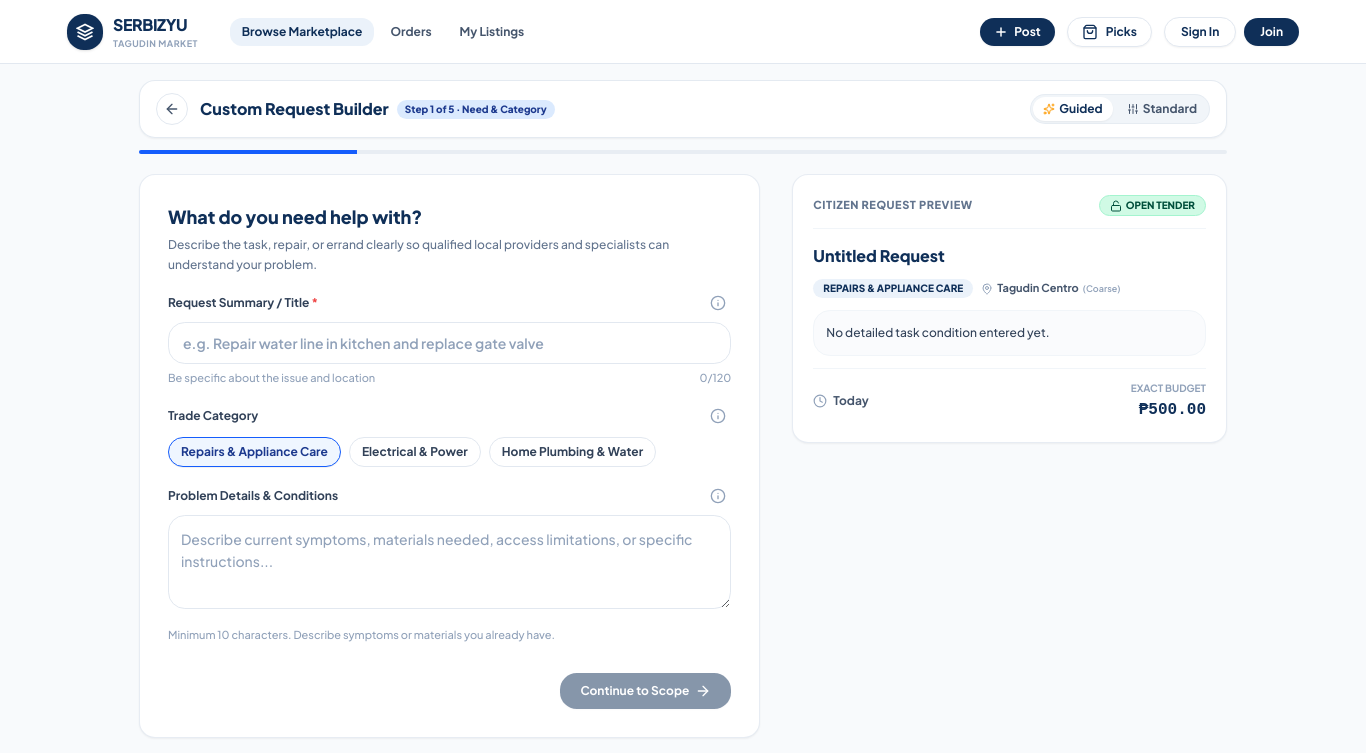
Test: CreateRequest Page › toggles to Standard mode and back to Guided mode cleanly
The width and height of the screenshot is (1366, 753).
Click the button "Standard" at coordinates (1162, 109), box [1117, 97, 1207, 121]
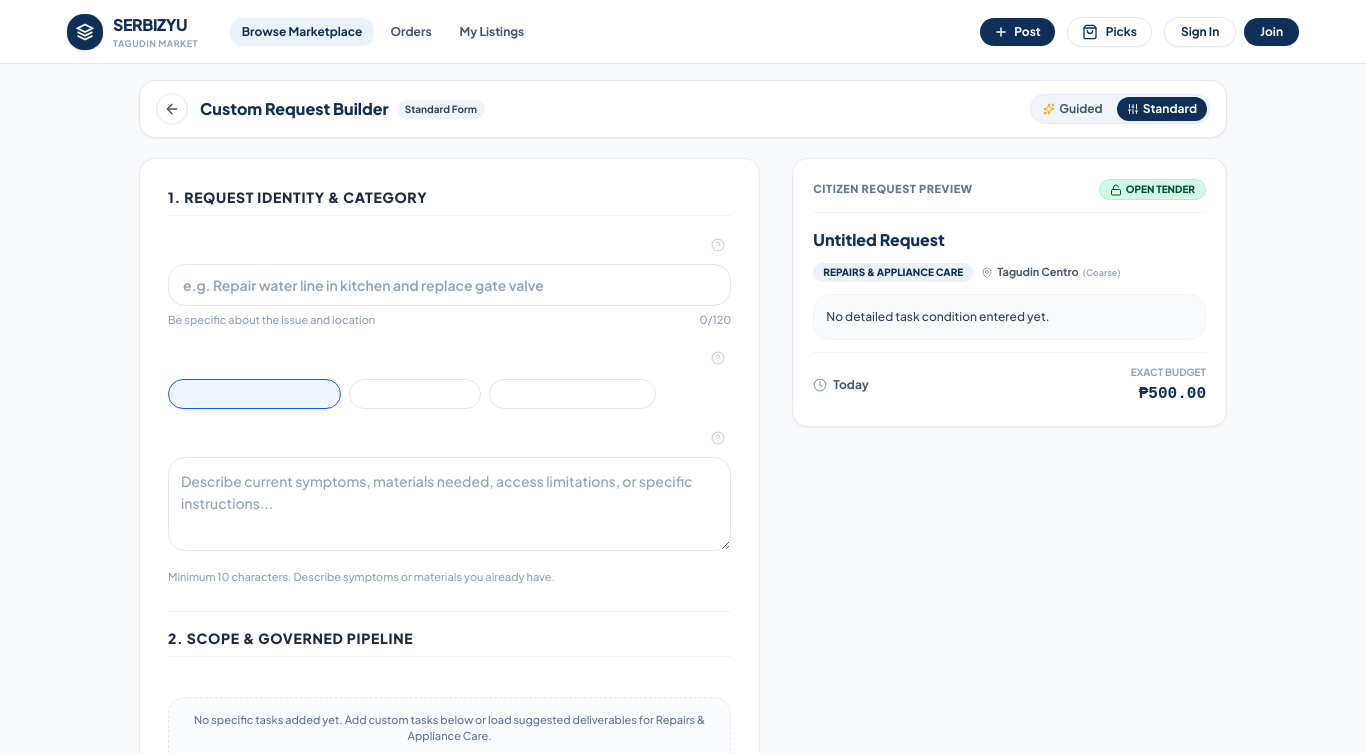
Check: the text "Standard Form" is shown, box [397, 100, 485, 118]
Check: the heading "1. Request Identity & Category" is shown, box [168, 187, 427, 207]
Check: the heading "2. Scope & Governed Pipeline" is shown, box [168, 628, 413, 648]
Click the button "Guided" at coordinates (1073, 109), box [1033, 97, 1113, 121]
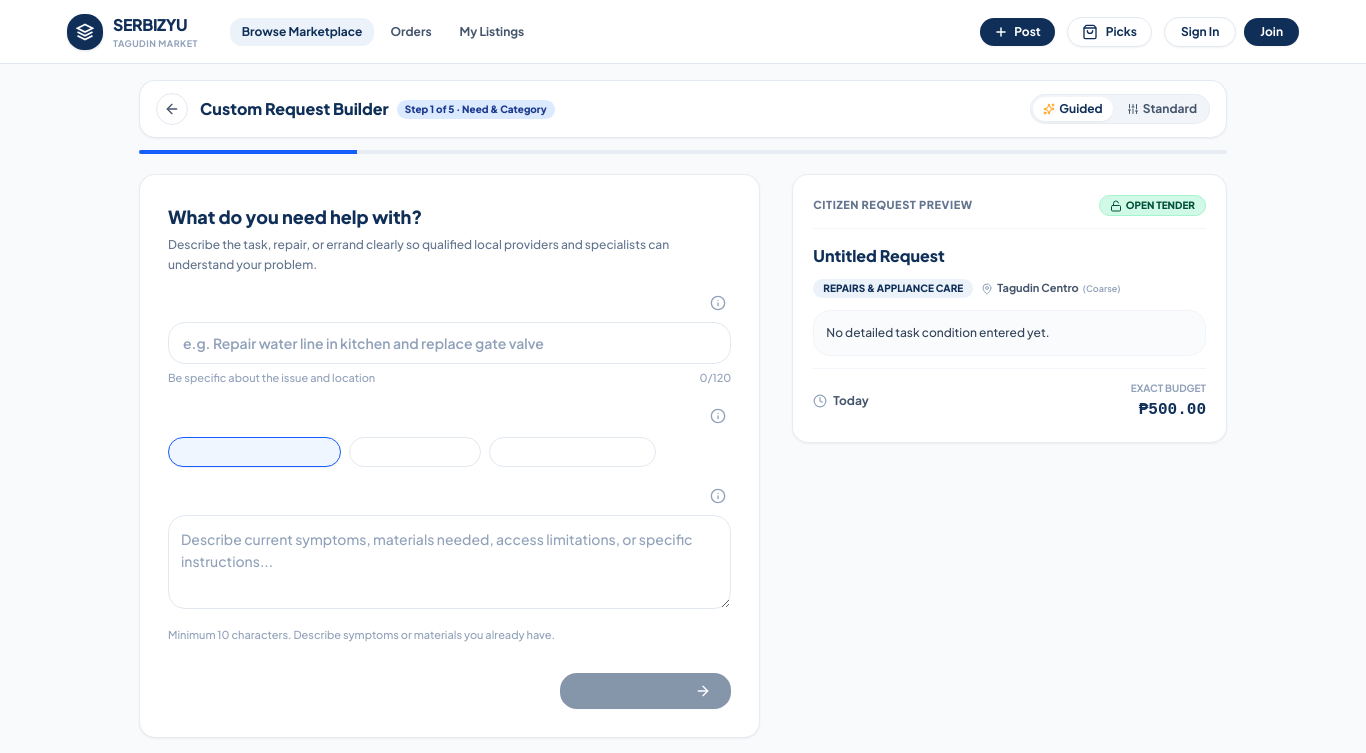
Check: the text "Step 1 of 5 · Need & Category" is shown, box [397, 100, 555, 118]
